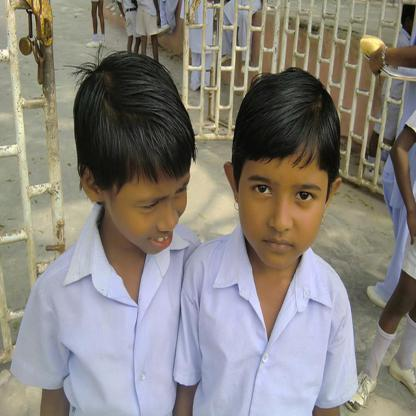face: (245, 149, 328, 262), (121, 162, 189, 254)
